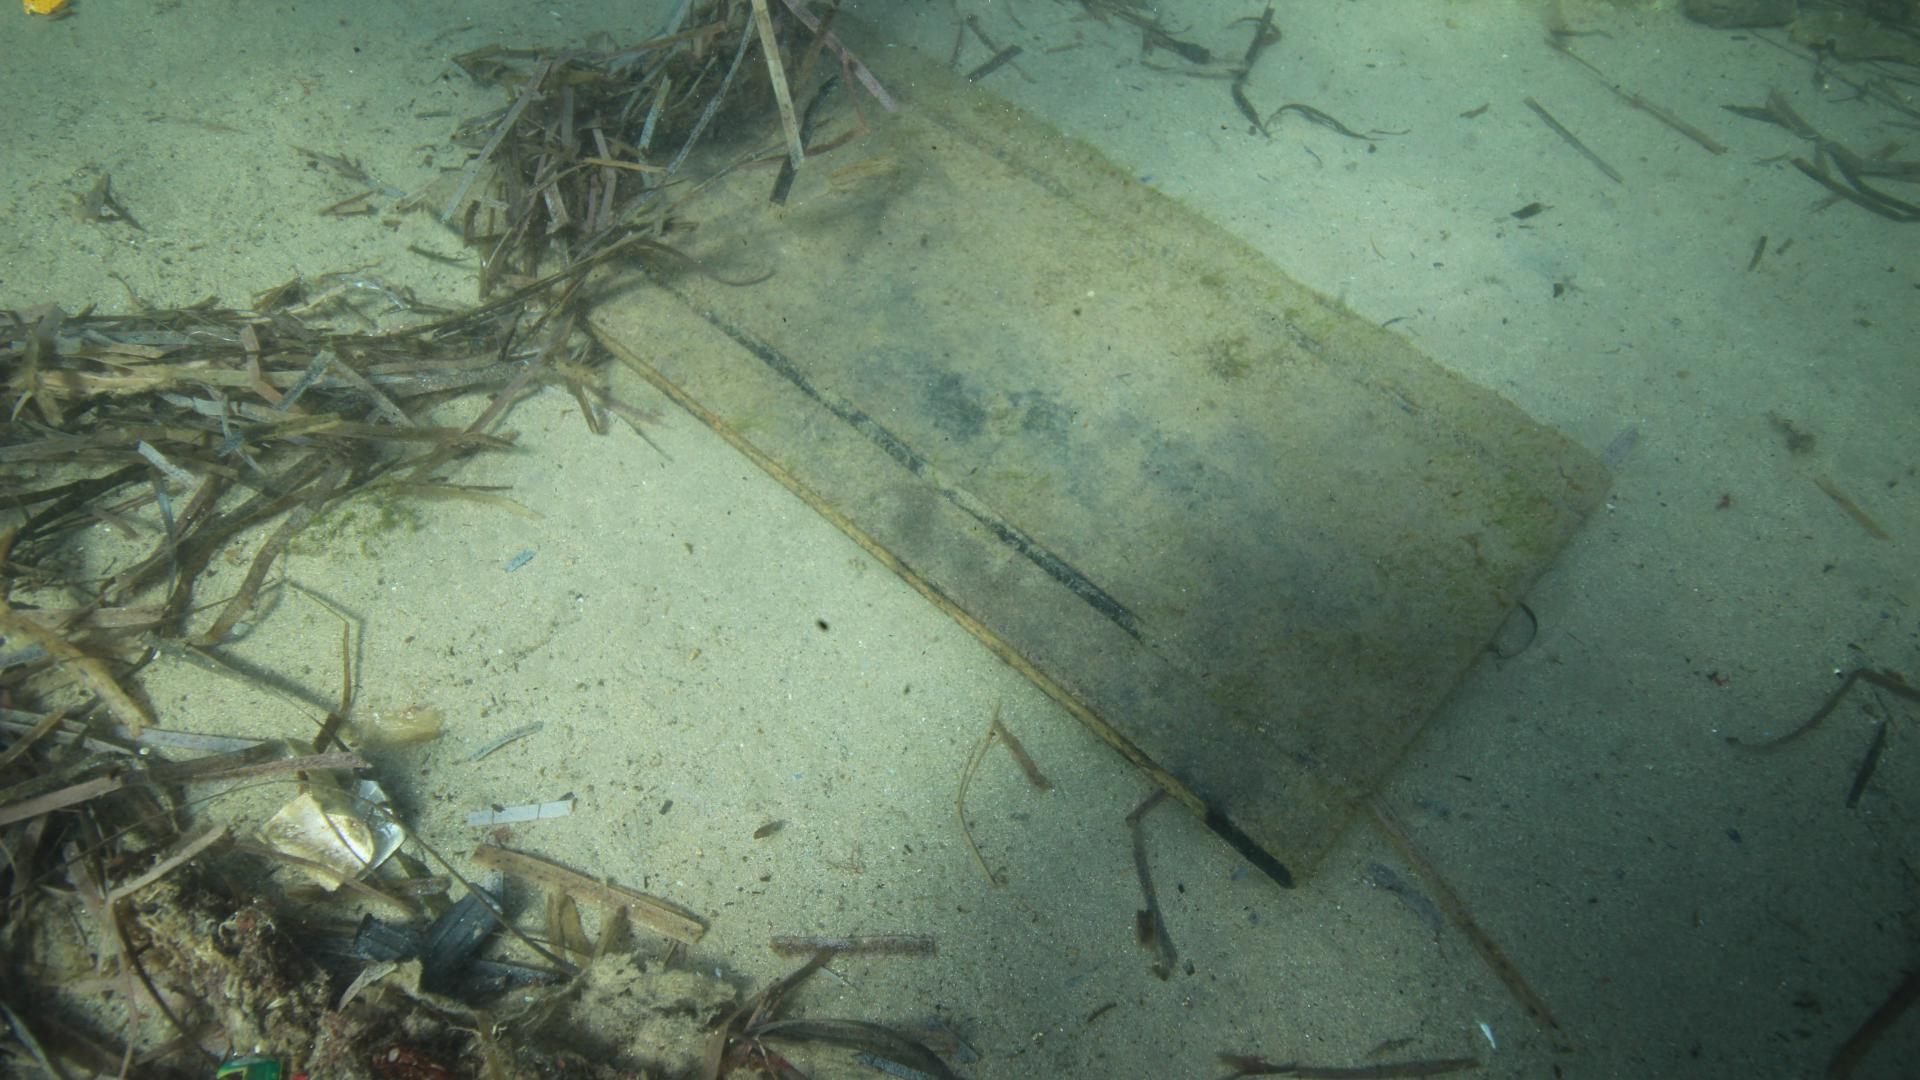wood: (575, 29, 1614, 894)
